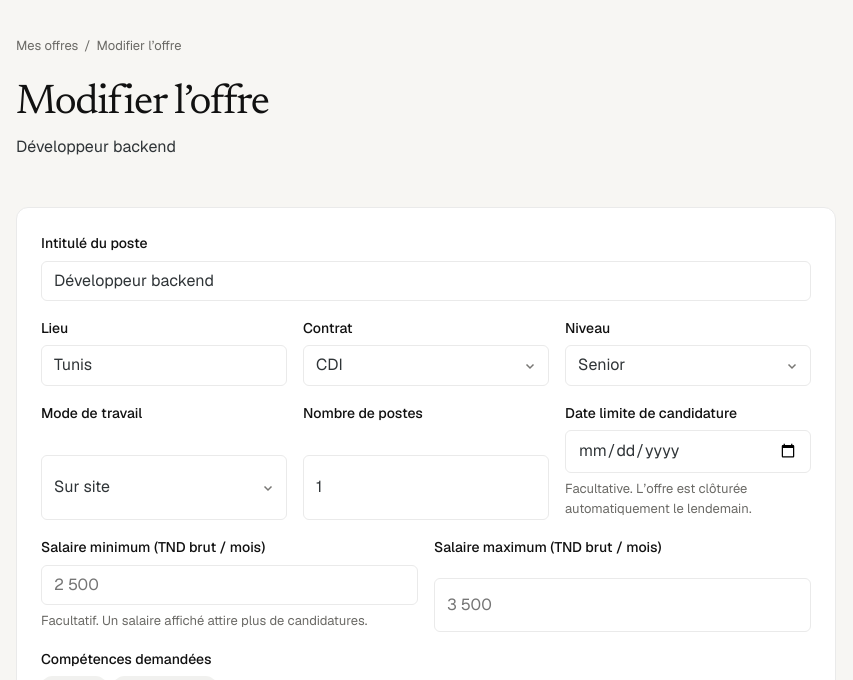
Scenario: edit form › sends only the changed fields, then confirms with a link back to "Mes offres"
This screenshot has width=853, height=680.
Replace the text in the field labelled "Intitulé du poste" with "Backend Java" at (426, 281), box [41,261,811,301]
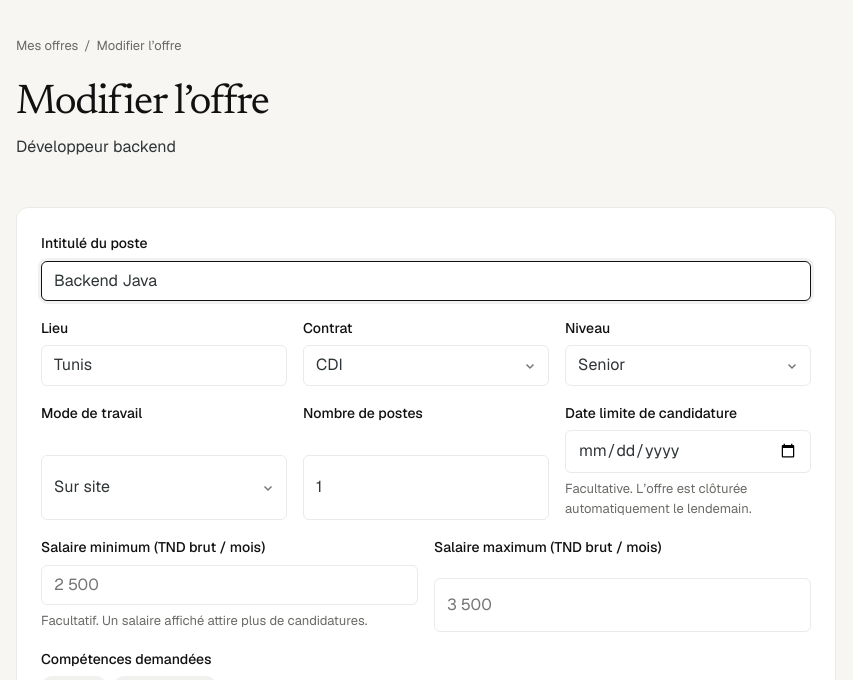
Select "CDD" in the dropdown labelled "Contrat" at (426, 366), box [303,346,549,386]
(page scrolled)
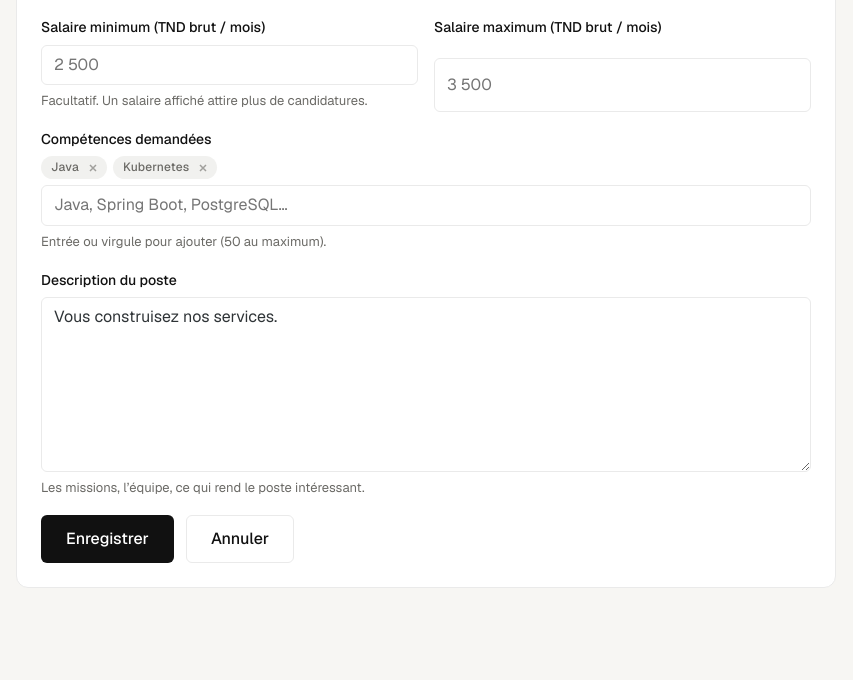
Click the button "Enregistrer" at (107, 538), box [41,514,174,562]
(page scrolled)
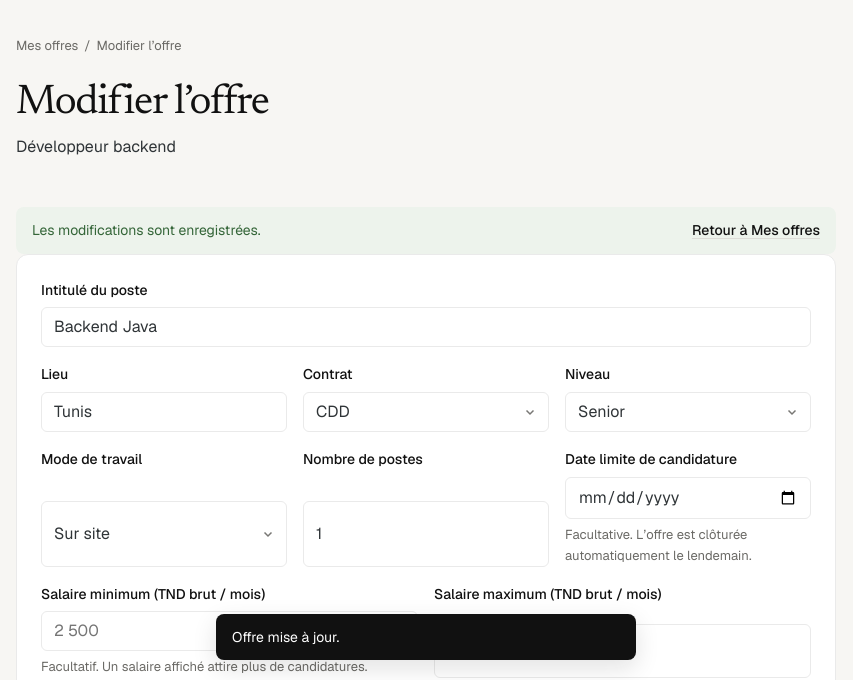
Expected: the text "Offre mise à jour." is shown, [216,614,636,660]
